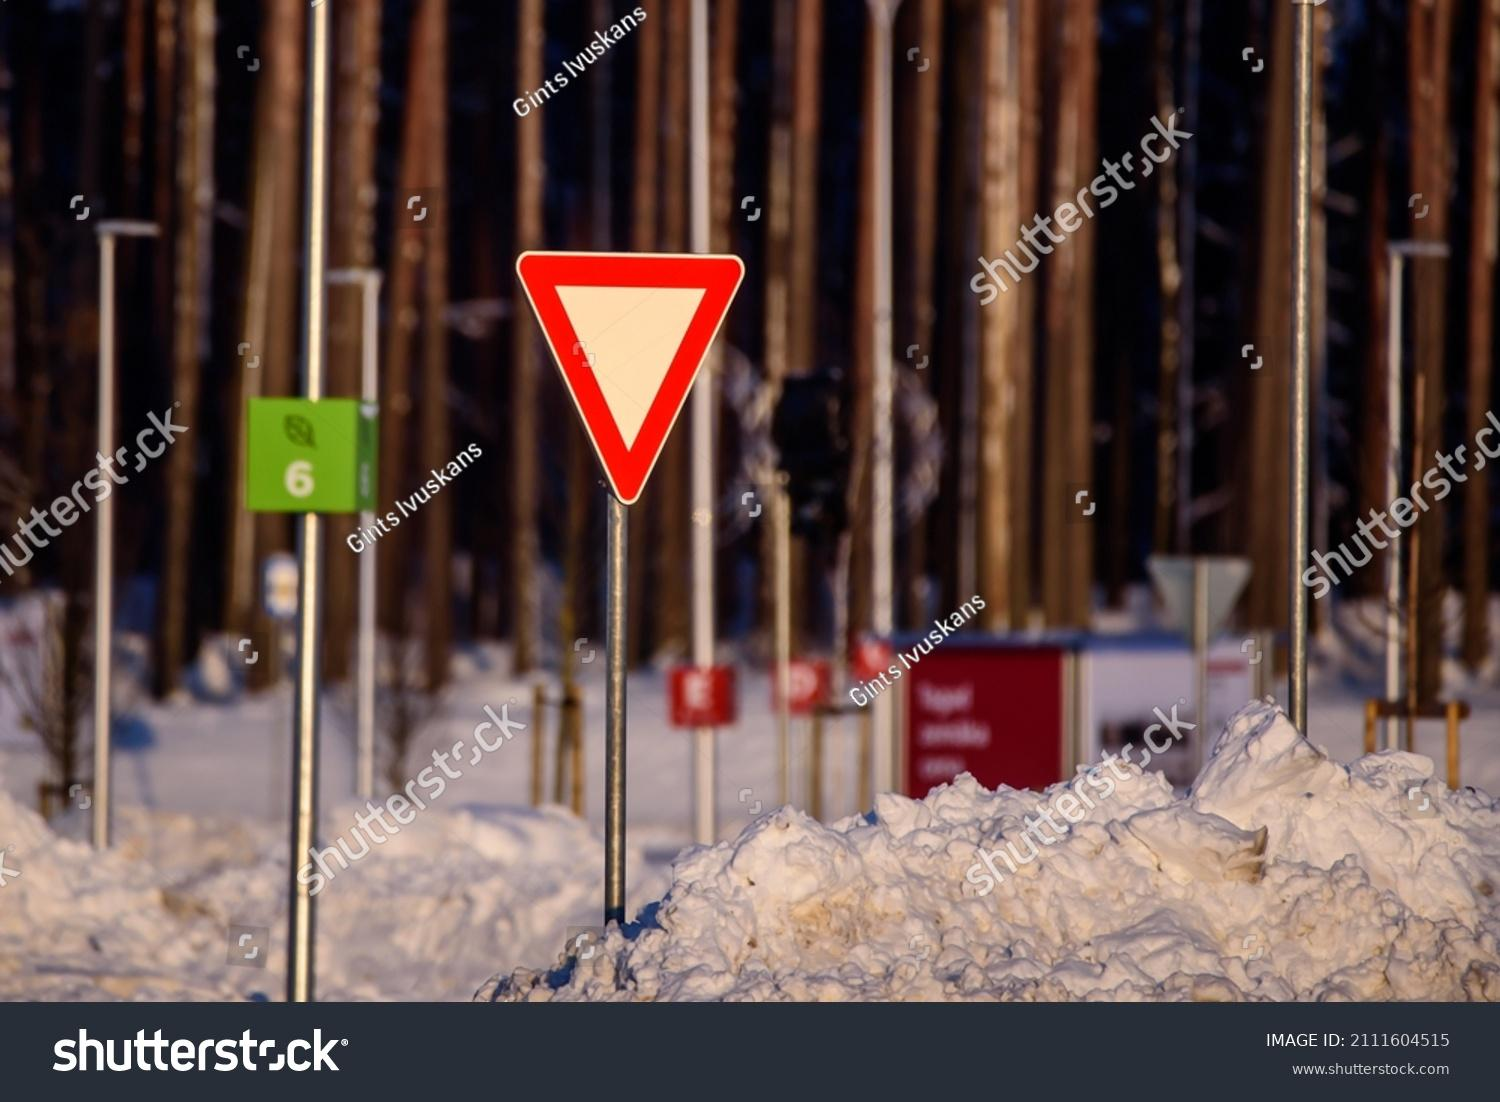Give Way: (495, 226, 785, 508)
